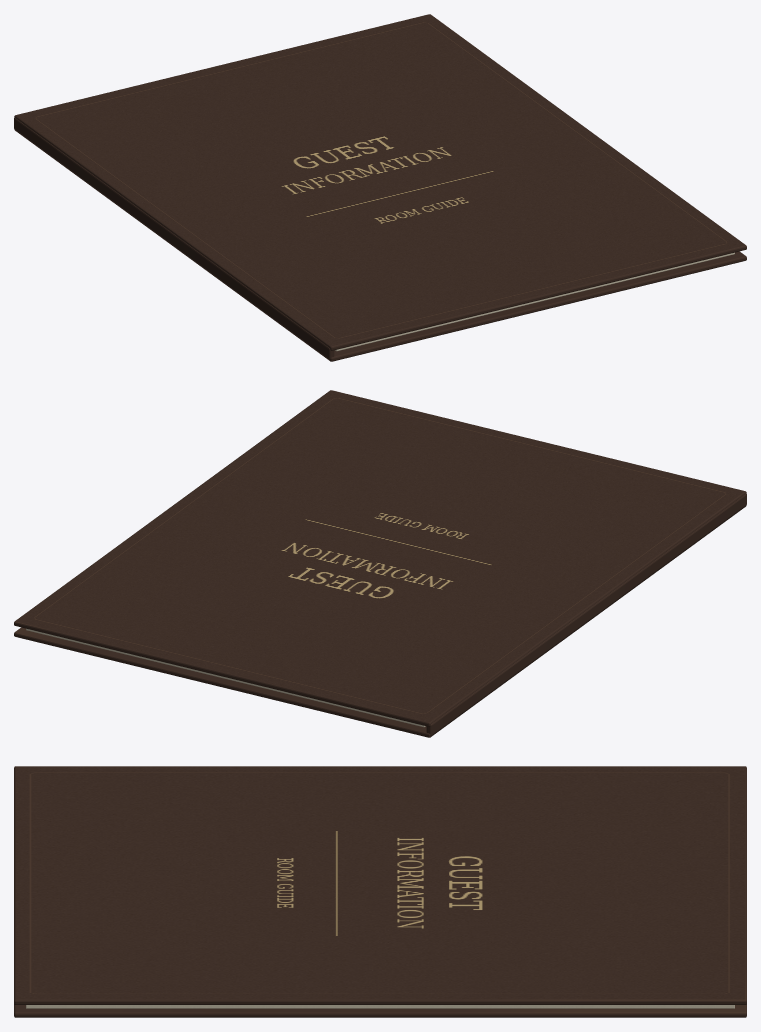
Rendered from mi01_guest_information_folder_lod0.glb.
3 renders of one model, top to bottom at view 1: azimuth 30°, elevation 25°; view 2: azimuth 150°, elevation 25°; view 3: azimuth 270°, elevation 25°, orthographic. The views are drawn at different scales.
Visible parts, largest first — view 1: front_vinyl_board, back_vinyl_board, folded_left_spine, cream_insert_edges; view 2: front_vinyl_board, back_vinyl_board, folded_left_spine, cream_insert_edges; view 3: front_vinyl_board, back_vinyl_board, cream_insert_edges.
Part boxes in pixels (x1,y1,x2,y2): front_vinyl_board: (14,14,746,350); back_vinyl_board: (14,129,746,361); folded_left_spine: (14,117,334,359); cream_insert_edges: (335,252,734,351); front_vinyl_board: (14,390,746,726); back_vinyl_board: (14,505,746,737); folded_left_spine: (426,493,746,735); cream_insert_edges: (26,628,425,727); front_vinyl_board: (14,766,746,1004); back_vinyl_board: (14,1004,746,1017); cream_insert_edges: (26,1005,734,1008).
Size of the model in its own units: 0.2325 by 0.0082 by 0.306.
2 materials, 2 textured.
